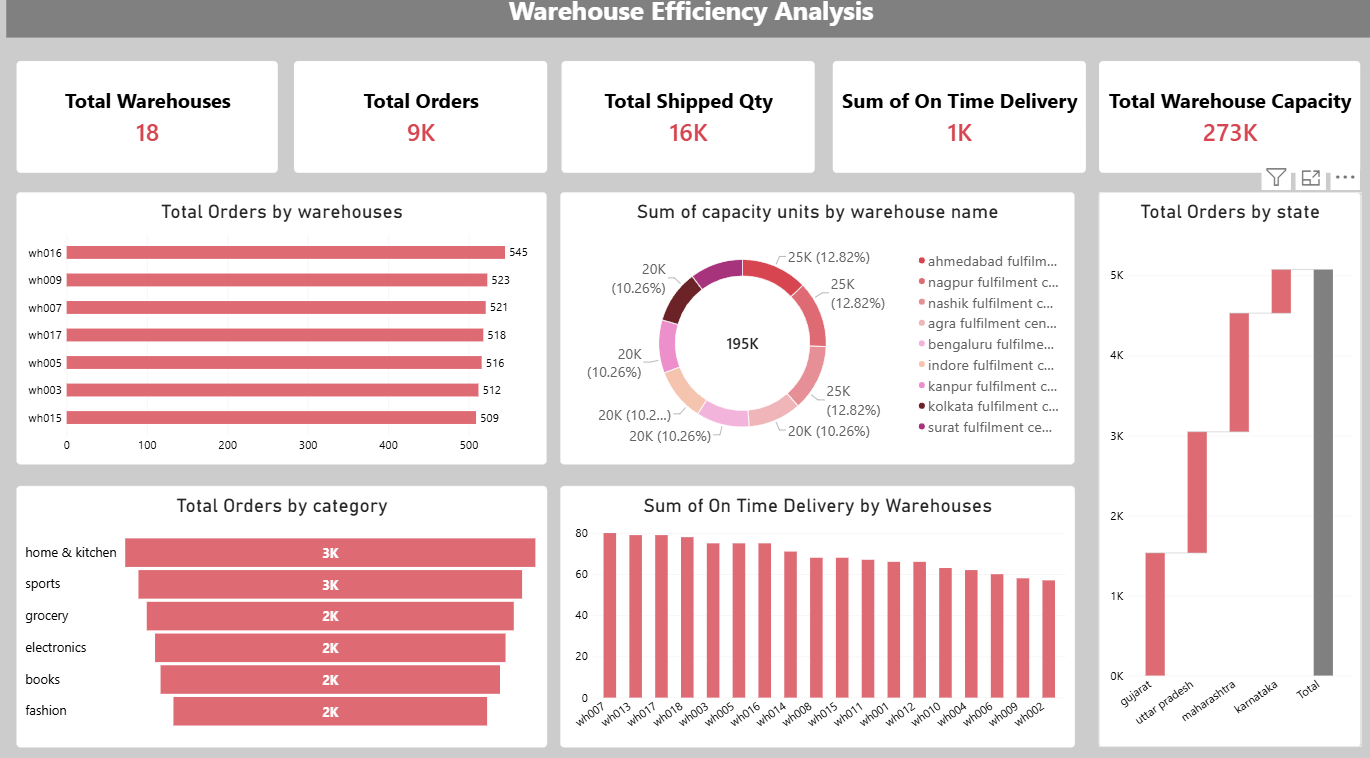

The dashboard page shown, as its layout file describes it:
{"tool":"powerbi","page":{"name":"Warehouse Efficiency report","canvas":[2560,1440],"ordinal":4},"visuals":[{"type":"textbox","box":[12.1,0,2548,84.5],"z":0},{"type":"cardVisual","fields":{"Data":["fact_orders.Total Orders"]},"box":[546.1,128.8,472.9,209.9],"z":1000},{"type":"cardVisual","fields":{"Data":["fact_order_items.Total Shipped Qty"]},"box":[1043.3,128.8,472.9,209.9],"z":2000},{"type":"cardVisual","fields":{"Data":["fact_shipments.Sum of On Time Delivery"]},"box":[1548.2,128.8,472.9,209.9],"z":3000},{"type":"cardVisual","fields":{"Data":["dim_warehouses.Total Warehouse Capacity"]},"box":[2045.3,128.8,487.4,209.9],"z":4000},{"type":"cardVisual","fields":{"Data":["dim_warehouses.Total Warehouses"]},"box":[30.9,128.8,487.4,209.9],"z":5000},{"type":"barChart","title":"Total Orders by warehouses","fields":{"Y":["fact_orders.Total Orders"],"Category":["fact_orders.warehouse_id"]},"box":[30,372.5,987.5,507.5],"z":6000},{"type":"funnel","title":"Total Orders by category","fields":{"Category":["dim_products.category"],"Y":["fact_orders.Total Orders"]},"box":[30,917.5,988,487],"z":7000},{"type":"donutChart","title":"Sum of capacity units by warehouse name","fields":{"Category":["dim_warehouses.warehouse_name"],"Y":["Sum(dim_warehouses.capacity_units)"]},"box":[1042.5,372.5,957.5,507.5],"z":8000},{"type":"columnChart","title":"Sum of On Time Delivery by Warehouses","fields":{"Y":["fact_shipments.Sum of On Time Delivery"],"Category":["fact_orders.warehouse_id"]},"box":[1043,918,958,487],"z":9000},{"type":"waterfallChart","fields":{"Category":["dim_warehouses.state"],"Y":["fact_orders.Total Orders"]},"box":[2045,372.5,487.5,1032.5],"z":10000}]}

Visuals, with their boxes in screenshot pixels (x1, y1, x2, y2), scaled from the page's 2560x1440 canvas onto the 1370x758 screenshot:
textbox: bbox=(6, 0, 1369, 44)
cardVisual - fact_orders.Total Orders: bbox=(292, 68, 545, 178)
cardVisual - fact_order_items.Total Shipped Qty: bbox=(558, 68, 811, 178)
cardVisual - fact_shipments.Sum of On Time Delivery: bbox=(829, 68, 1082, 178)
cardVisual - dim_warehouses.Total Warehouse Capacity: bbox=(1095, 68, 1355, 178)
cardVisual - dim_warehouses.Total Warehouses: bbox=(17, 68, 277, 178)
"Total Orders by warehouses" barChart: bbox=(16, 196, 545, 463)
"Total Orders by category" funnel: bbox=(16, 483, 545, 739)
"Sum of capacity units by warehouse name" donutChart: bbox=(558, 196, 1070, 463)
"Sum of On Time Delivery by Warehouses" columnChart: bbox=(558, 483, 1071, 740)
waterfallChart - dim_warehouses.state x fact_orders.Total Orders: bbox=(1094, 196, 1355, 740)
